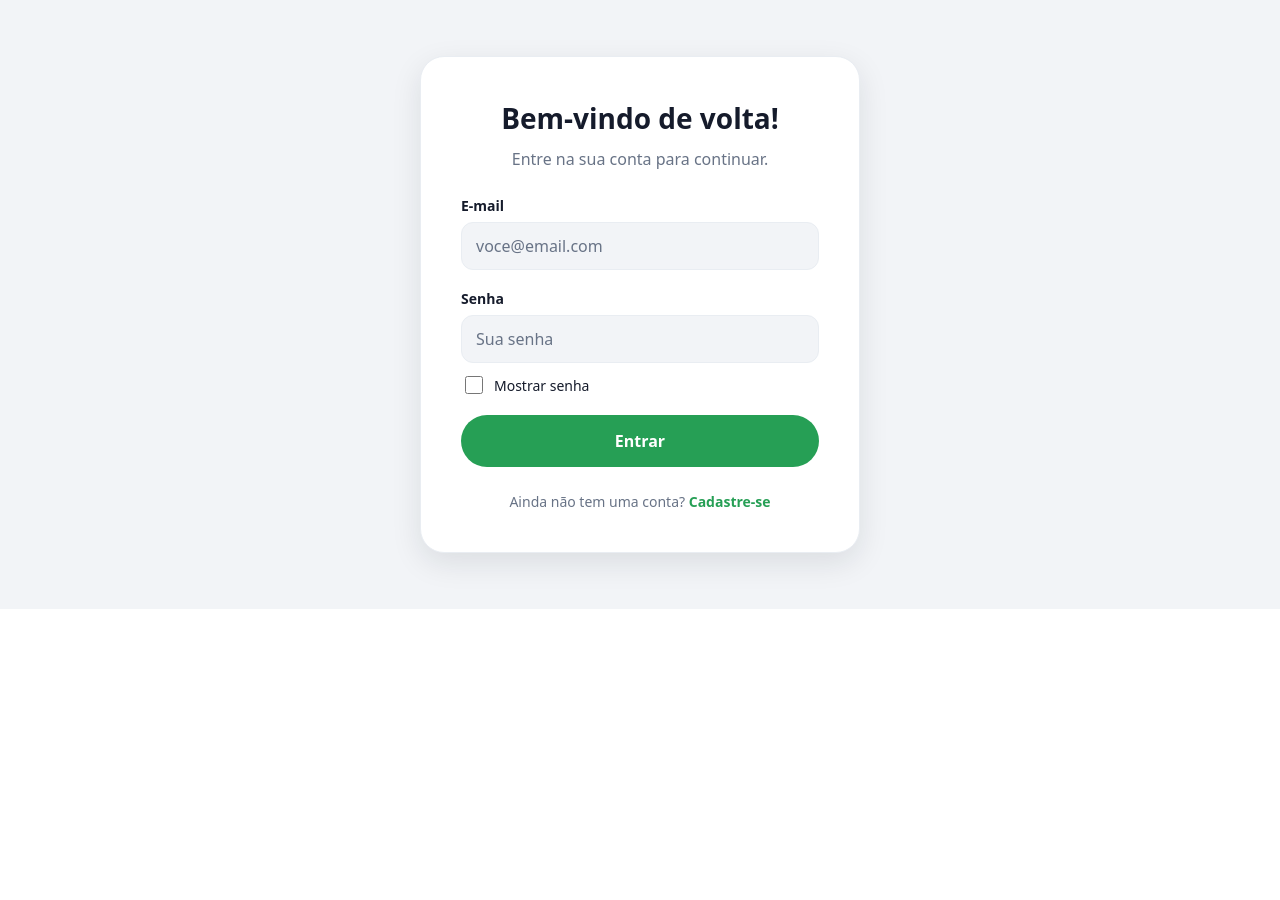
Scenario: Tela de entrar › mostra a mensagem em português quando a senha está errada
Step 1. Type "ana@example.com" into the field labelled "E-mail" → coordinates (640, 246), box [461,222,819,270]
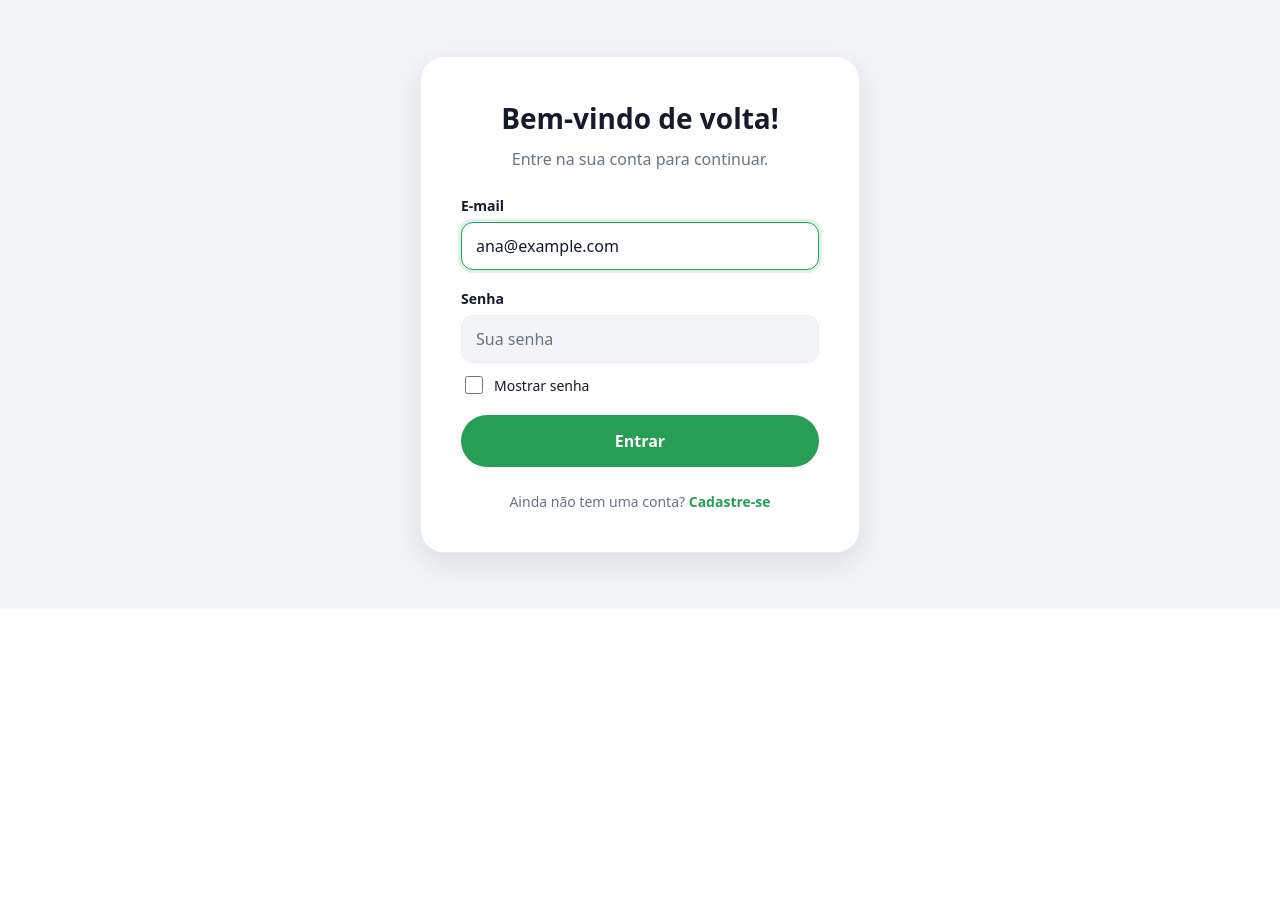
Step 2. Type "senha-errada" into the password field labelled "Senha" → coordinates (640, 339), box [461,315,819,363]
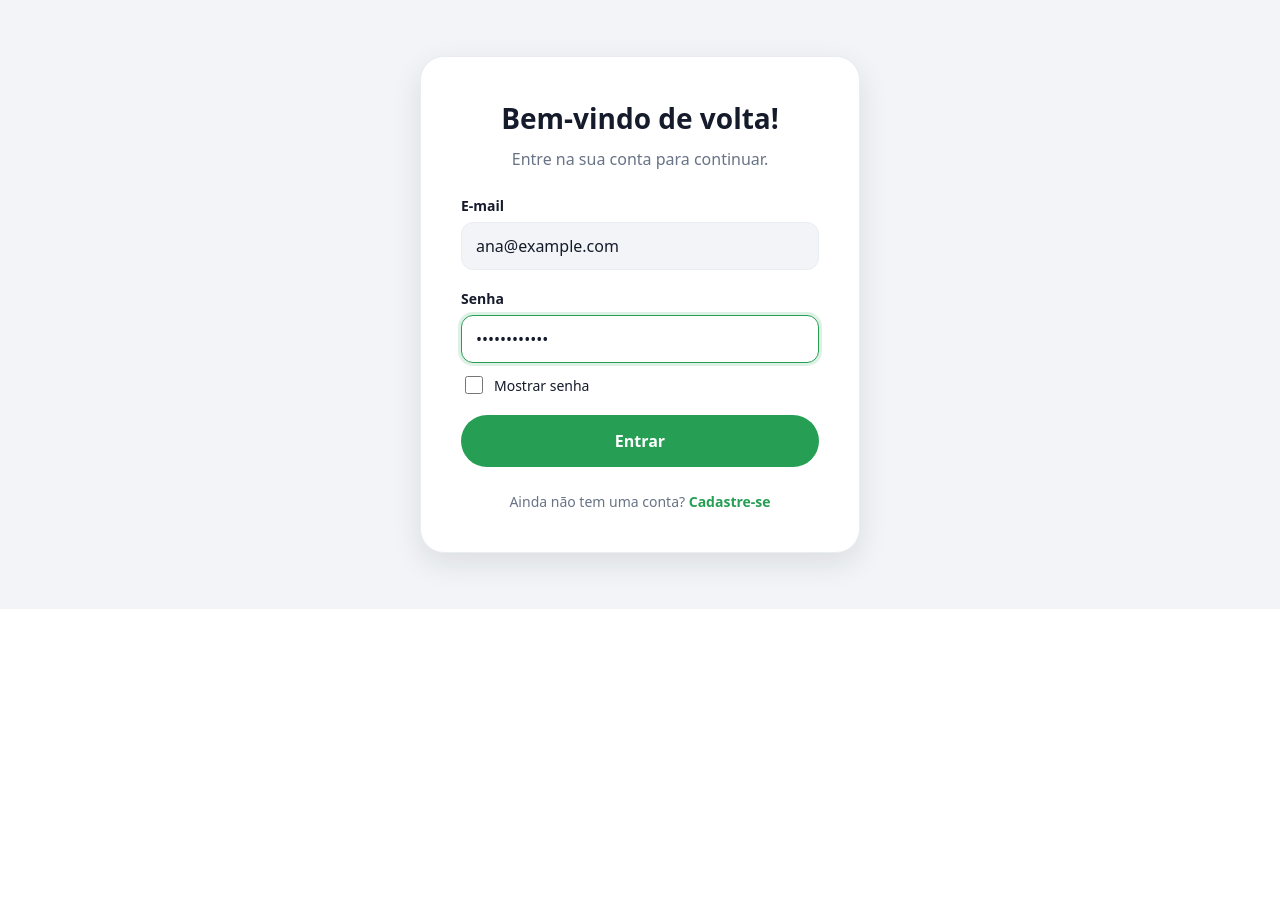
Step 3. Click the button "Entrar" → coordinates (640, 441), box [461,415,819,467]
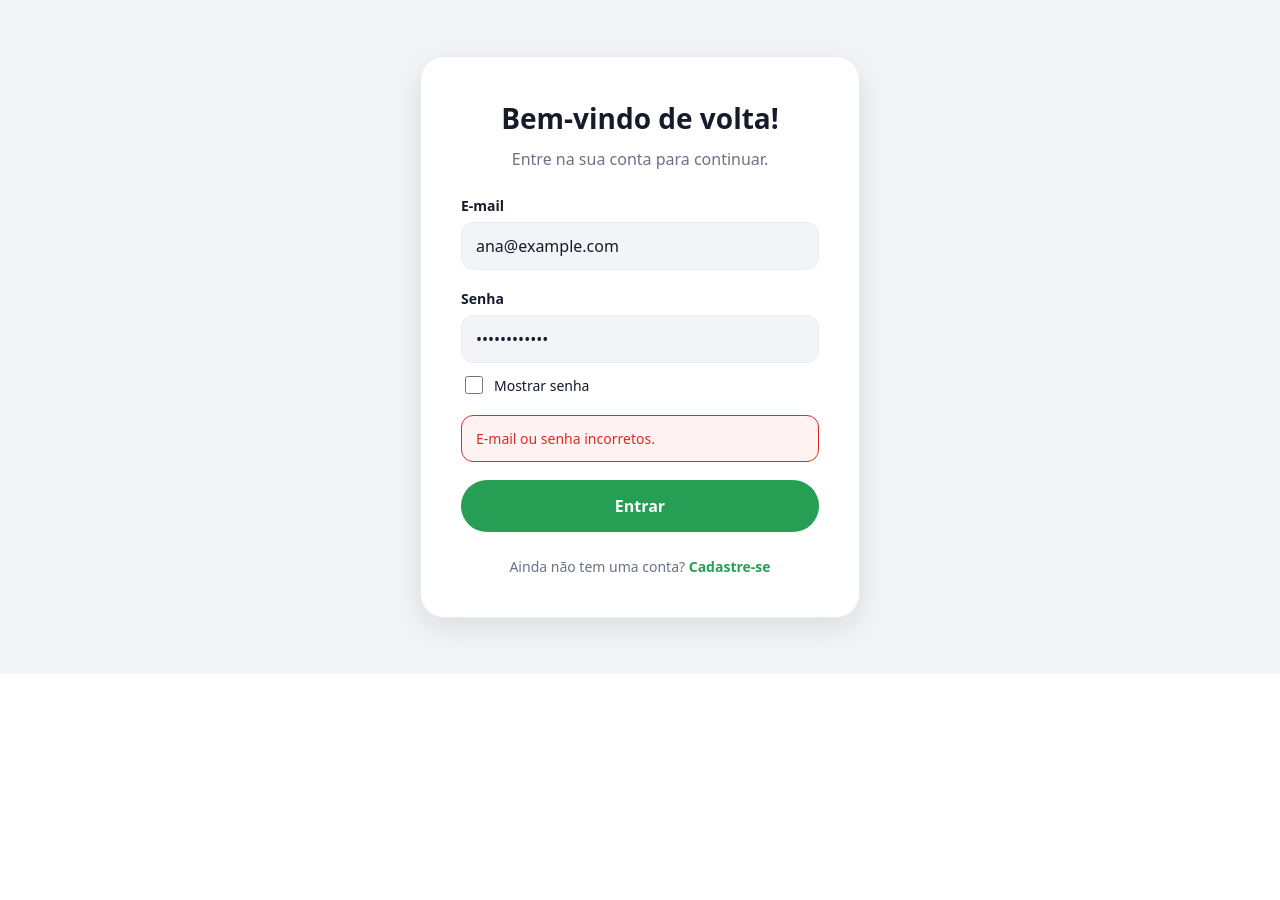
Result: the text "E-mail ou senha incorretos." is shown at [461,415,819,462]
